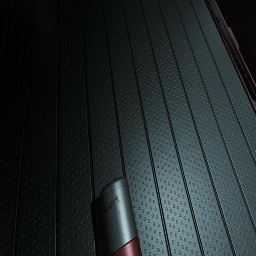NitrogenTank ,: (100, 177, 142, 256)
